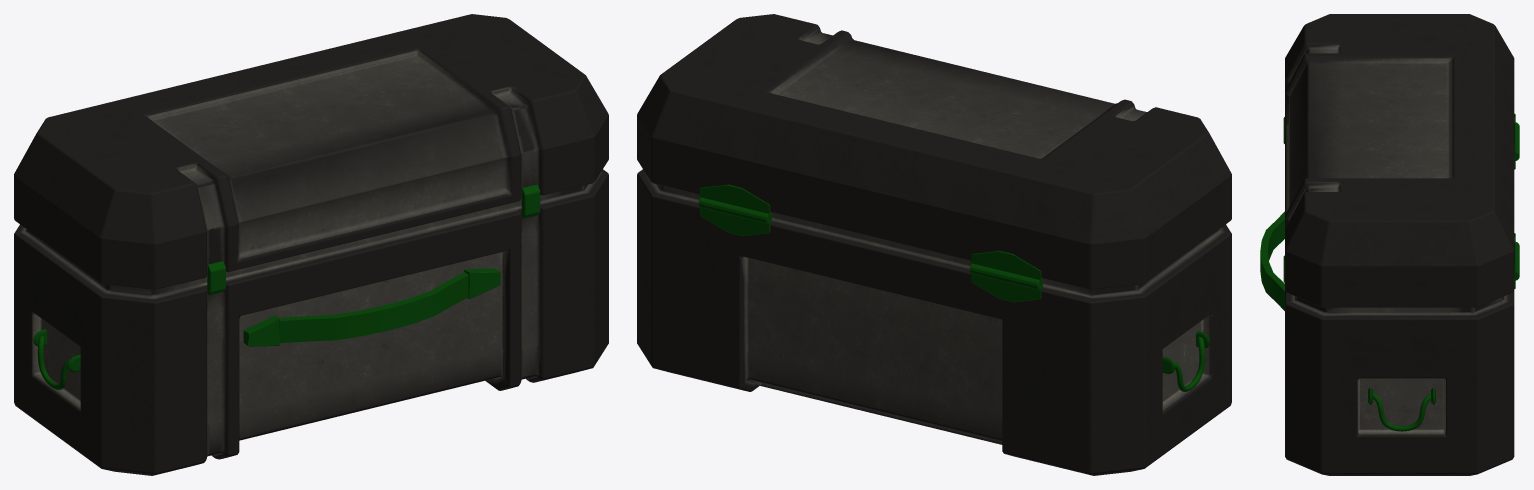
The model's file is SkibCommon.glb.
3 renders of one model, left to right at view 1: azimuth 30°, elevation 25°; view 2: azimuth 150°, elevation 25°; view 3: azimuth 270°, elevation 25°, orthographic. The views are drawn at different scales.
Parts seen in each view (by area): view 1: Cube, Cube.002, Cube.003, Cube.004; view 2: Cube, Cube.001, Cylinder; view 3: Cube, Cube.002, NurbsCurve, Cylinder.
Part boxes in pixels (<box>): Cube: <box>14,14,608,475</box>; Cube.002: <box>278,272,468,343</box>; Cube.003: <box>243,268,500,346</box>; Cube.004: <box>207,184,540,295</box>; Cube: <box>637,14,1231,475</box>; Cube.001: <box>700,184,1041,302</box>; Cylinder: <box>698,197,1043,290</box>; Cube: <box>1285,14,1514,475</box>; Cube.002: <box>1260,211,1284,310</box>; NurbsCurve: <box>1373,393,1430,431</box>; Cylinder: <box>1514,122,1519,280</box>.
Bounding box in the file's own units: 8.12 × 4.22 × 3.88.
Materials: 3 (1 with a texture image).
